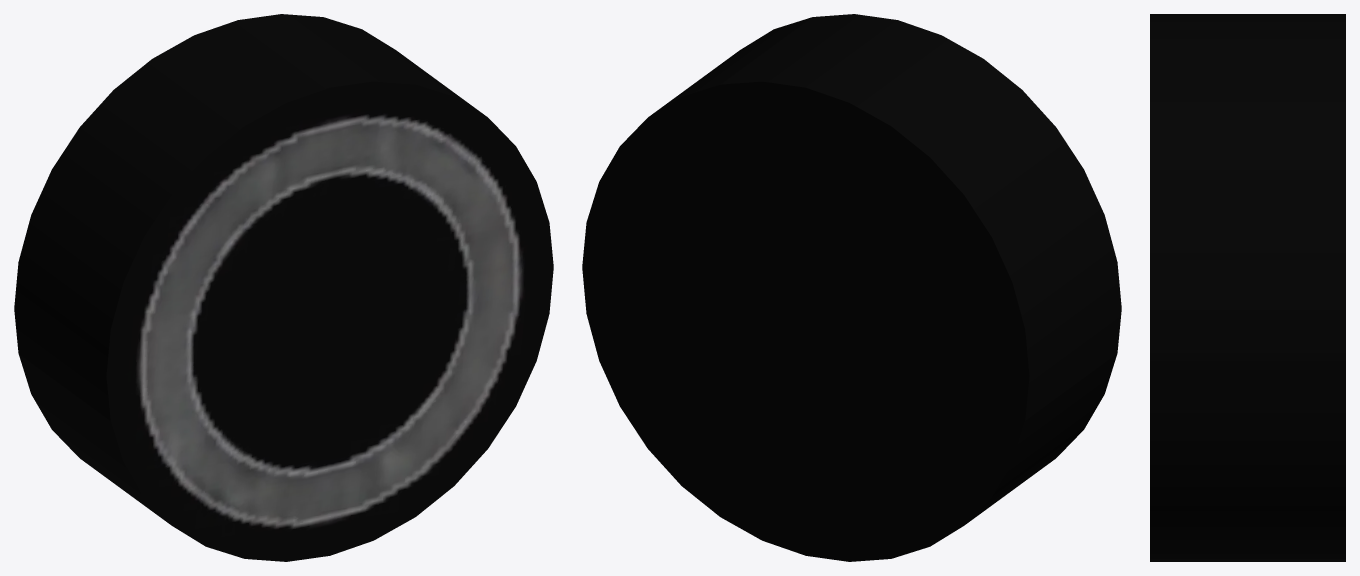
Rendered from body__barrel_base.glb.
3 views of the same model, side by side, from view 1: azimuth 30°, elevation 25°; view 2: azimuth 150°, elevation 25°; view 3: azimuth 270°, elevation 25° (orthographic). The views are drawn at different scales.
Visible parts, largest first — view 1: geometry_0; view 2: geometry_0; view 3: geometry_0.
Boxes of the visible parts, x1,y1,x2,y2 form: geometry_0: (14,14,553,561); geometry_0: (582,14,1121,561); geometry_0: (1150,14,1345,561).
Bounding box in the file's own units: 0.112 × 0.112 × 0.04.
1 material, 1 textured.
